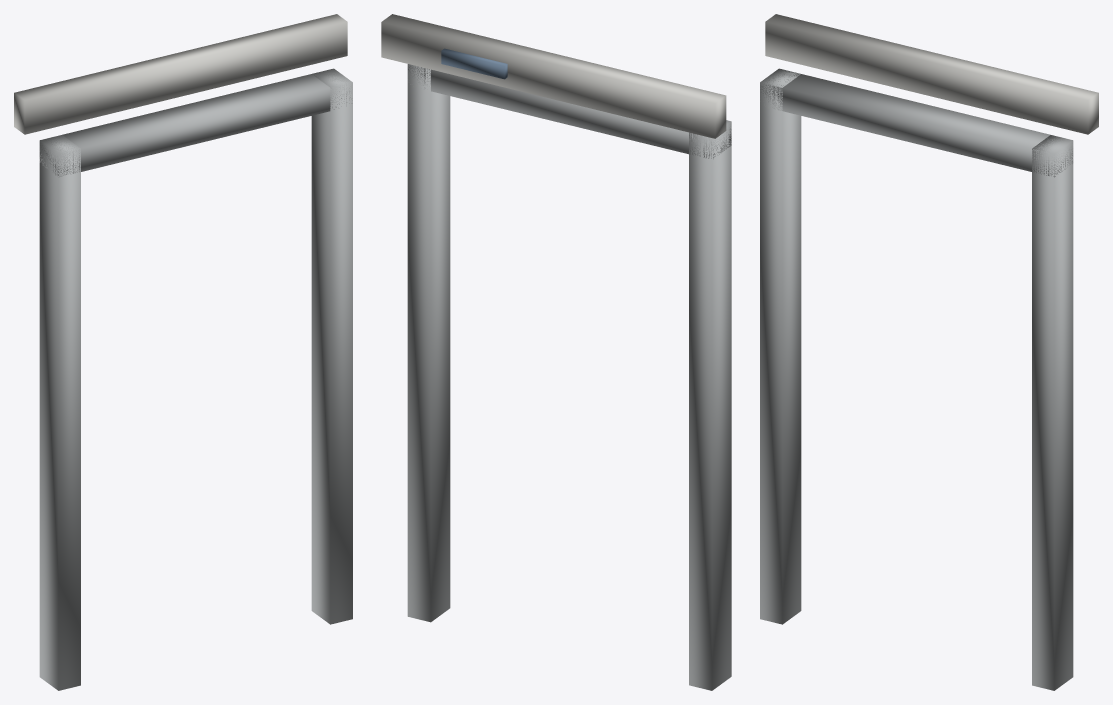
Rendered from doorway_hospital_w122_h240_d16.glb.
The picture shows the model from 3 angles, left to right: view 1: azimuth 30°, elevation 25°; view 2: azimuth 150°, elevation 25°; view 3: azimuth 330°, elevation 25°; orthographic projection. The views are drawn at different scales.
Visible parts, largest first — view 1: world; view 2: world; view 3: world.
Boxes of the visible parts, x1,y1,x2,y2 form: world: (14, 14, 352, 690); world: (381, 14, 731, 690); world: (760, 14, 1098, 690).
Size of the model in its own units: 1.58 by 2.71 by 0.28.
